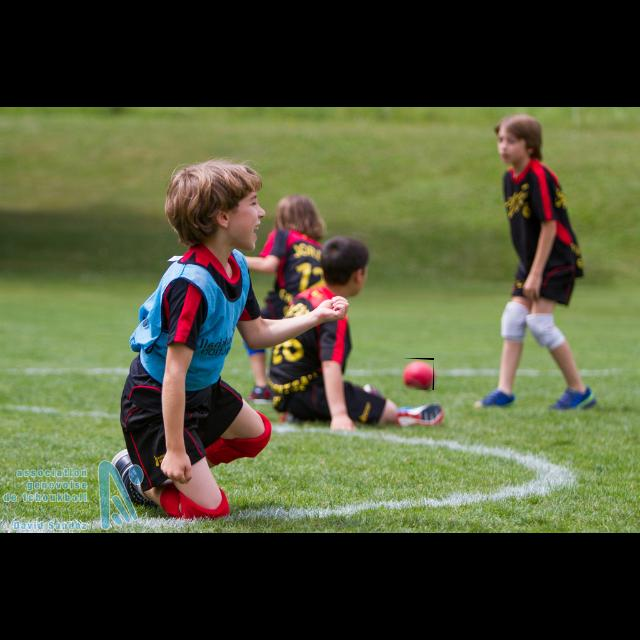Football: (402, 358, 434, 390)
